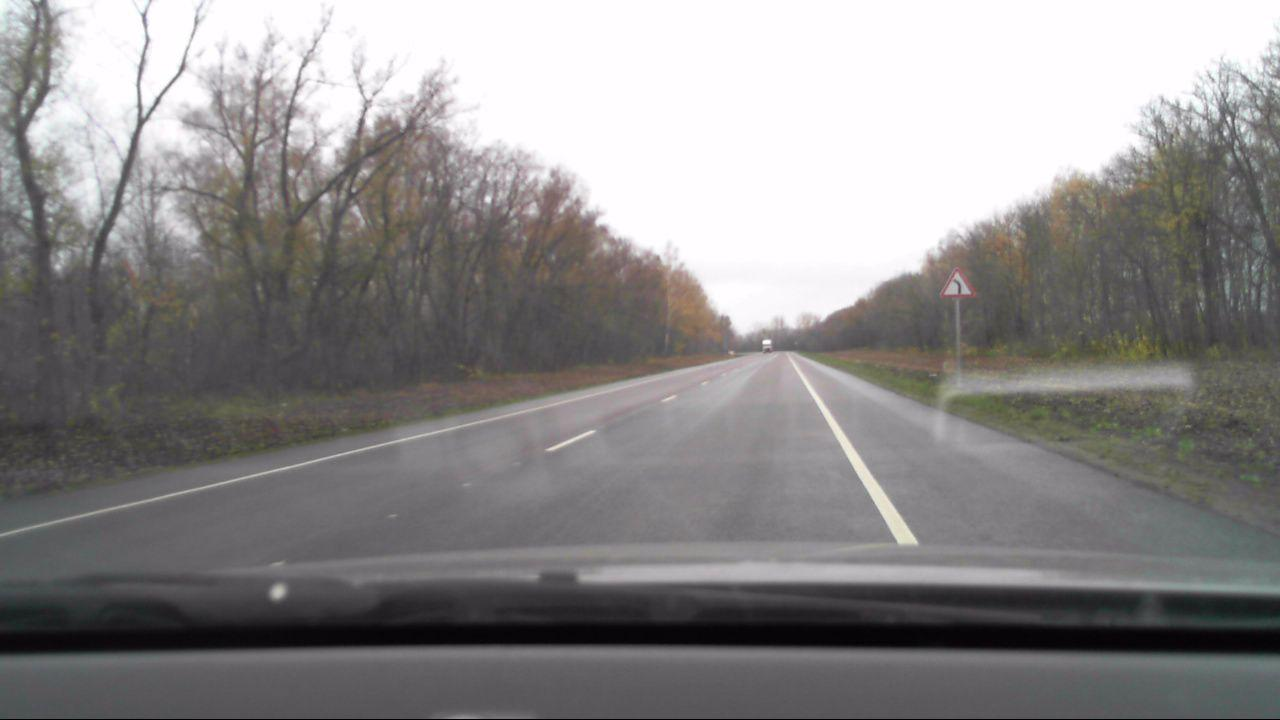1_11_2: (941, 266, 975, 302)
